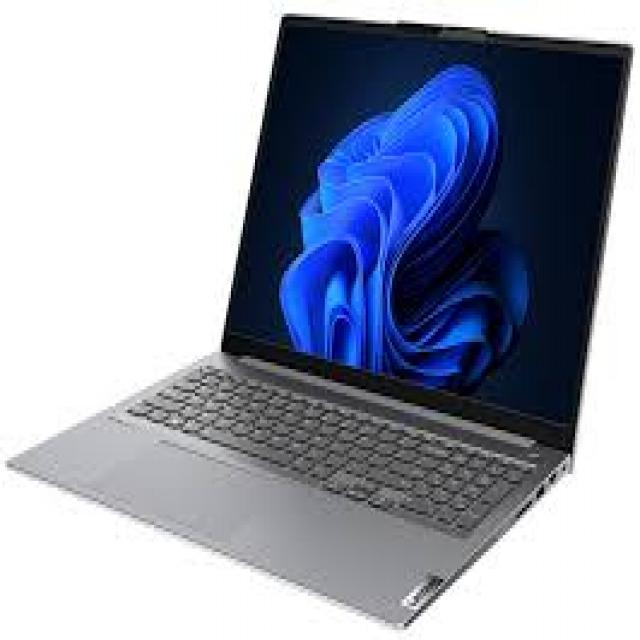others: (19, 7, 635, 613)
